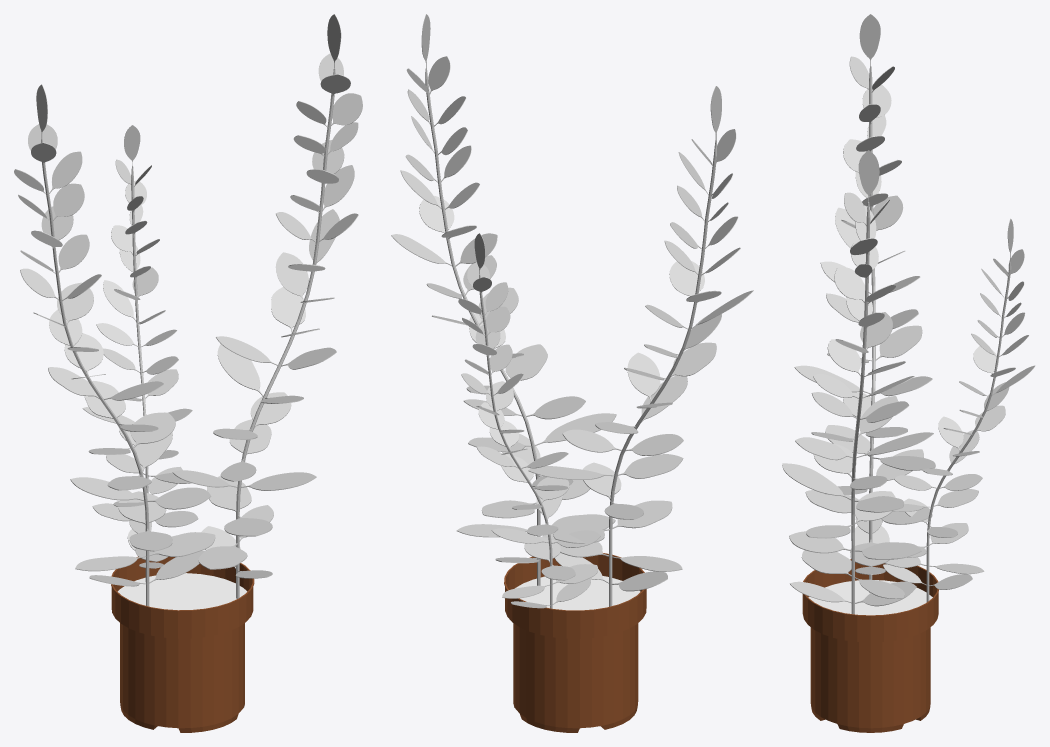
The model's file is plant.gltf.
3 views of the same model, side by side, from view 1: azimuth 30°, elevation 25°; view 2: azimuth 150°, elevation 25°; view 3: azimuth 270°, elevation 25° (orthographic). The views are drawn at different scales.
Parts seen in each view (by area): view 1: Plant; view 2: Plant; view 3: Plant.
Part boxes in pixels (x1,y1,x2,y2): Plant: (14, 14, 362, 732); Plant: (391, 14, 753, 732); Plant: (782, 14, 1035, 732).
Size of the model in its own units: 0.9004 by 1.68 by 0.614.
